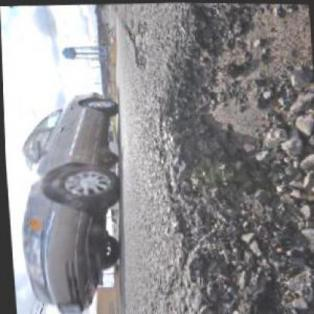Hueco: (132, 40, 148, 70)
